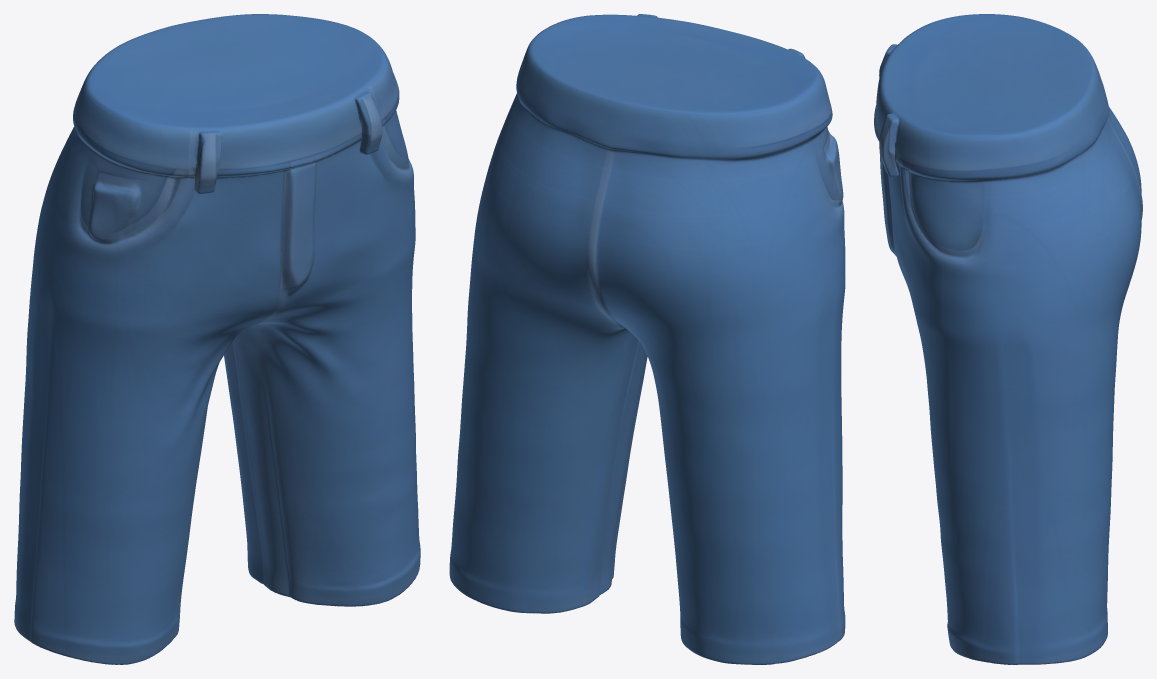
File: bottom_denim_shorts.glb
3 renders of one model, left to right at view 1: azimuth 30°, elevation 25°; view 2: azimuth 150°, elevation 25°; view 3: azimuth 270°, elevation 25°, orthographic. The views are drawn at different scales.
Parts seen in each view (by area): view 1: tripo_node_e359aa56-6d90-45e6-a020-516a3e81f9b8; view 2: tripo_node_e359aa56-6d90-45e6-a020-516a3e81f9b8; view 3: tripo_node_e359aa56-6d90-45e6-a020-516a3e81f9b8.
Boxes of the visible parts, left/top/right/bottom form: tripo_node_e359aa56-6d90-45e6-a020-516a3e81f9b8: left=14, top=14, right=420, bottom=664; tripo_node_e359aa56-6d90-45e6-a020-516a3e81f9b8: left=449, top=14, right=845, bottom=664; tripo_node_e359aa56-6d90-45e6-a020-516a3e81f9b8: left=874, top=14, right=1142, bottom=664.
Size of the model in its own units: 0.728 by 1 by 0.4734.
1 material, 1 textured.
